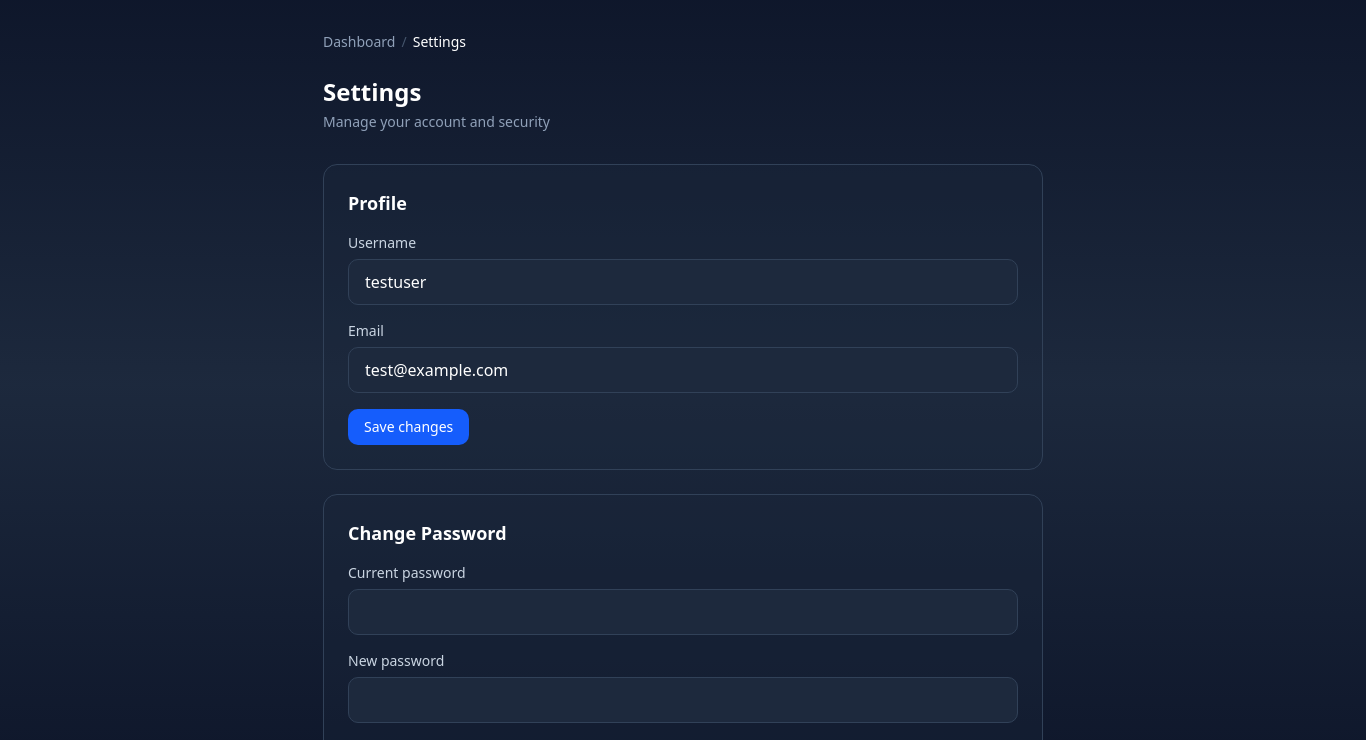
Test: SettingsPage › updates profile and shows success message
The image size is (1366, 740).
Replace the text in the field showing "testuser" below "Username" with "newname" at coordinates (683, 282), box [348,259,1018,305]
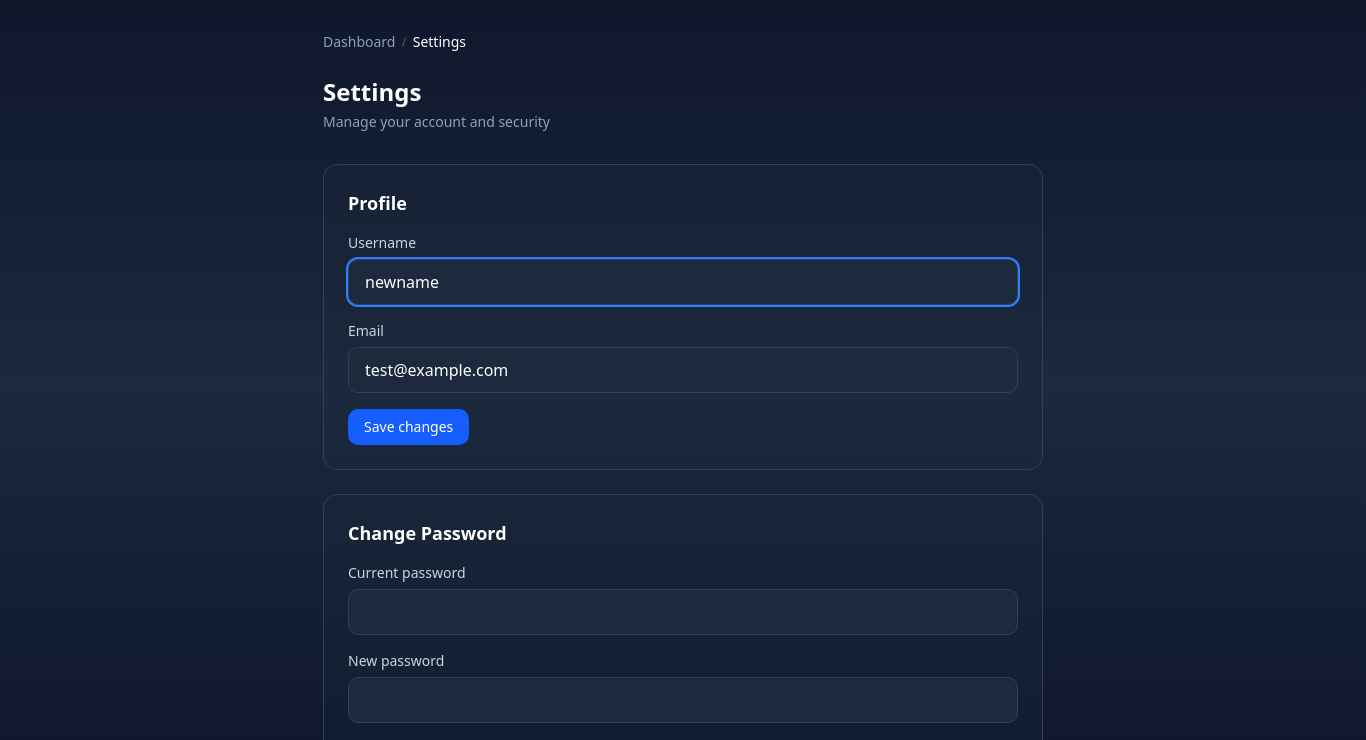
Click the button "Save changes" at coordinates (409, 427), box [348,409,469,445]
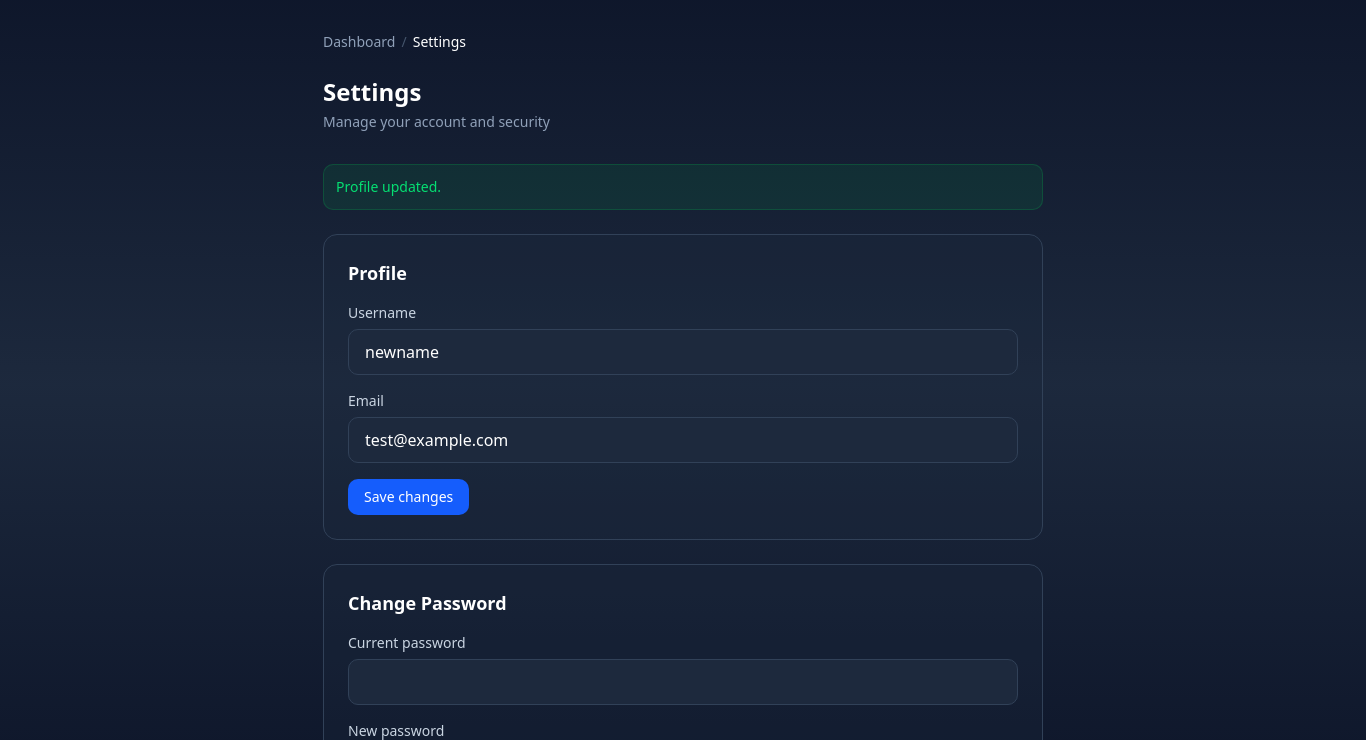
Now the text "Profile updated." is shown, box [323,164,1043,210]
